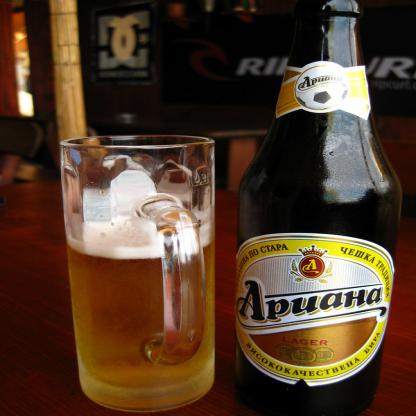drinking: (233, 0, 404, 415), (59, 135, 214, 413)
